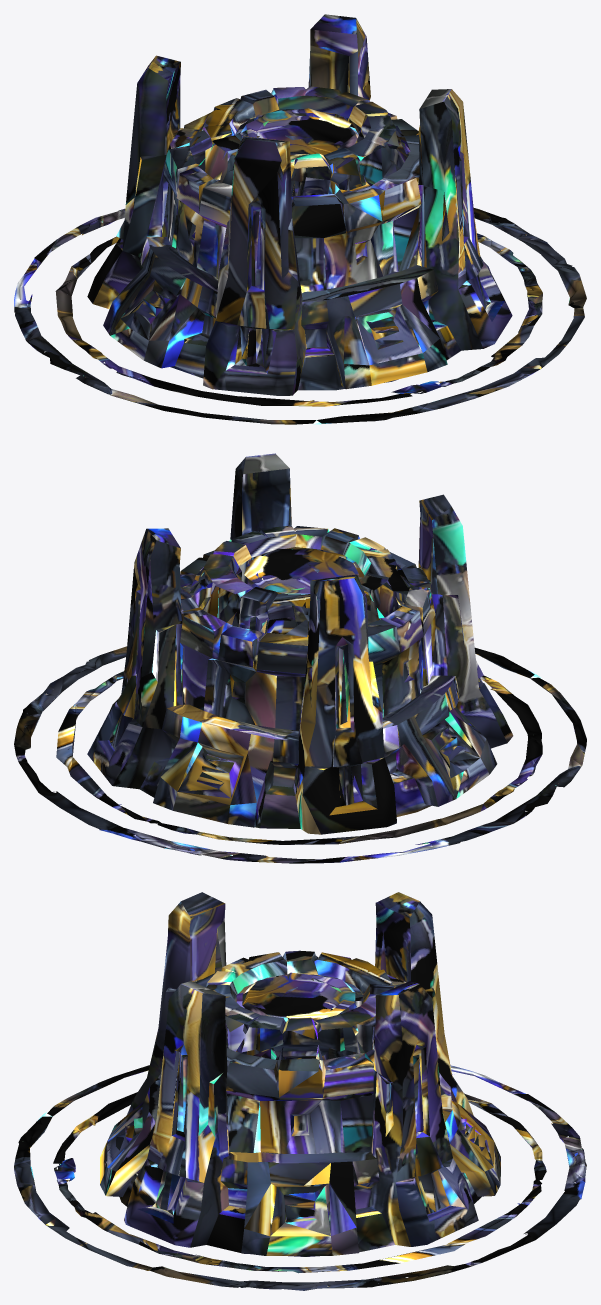
The model's file is tower_pulse_3d_LOD2.fbx.
3 renders of one model, top to bottom at view 1: azimuth 30°, elevation 25°; view 2: azimuth 150°, elevation 25°; view 3: azimuth 270°, elevation 25°, orthographic.
Visible parts, largest first — view 1: Base, Ring; view 2: Base, Ring; view 3: Base, Ring.
Part boxes in pixels (left/top/right/bottom): Base: left=14, top=14, right=586, bottom=424; Ring: left=199, top=86, right=399, bottom=178; Base: left=14, top=453, right=586, bottom=863; Ring: left=201, top=525, right=398, bottom=614; Base: left=14, top=892, right=586, bottom=1290; Ring: left=206, top=950, right=393, bottom=1039.
Bounding box in the file's own units: 145 × 65.45 × 144.
